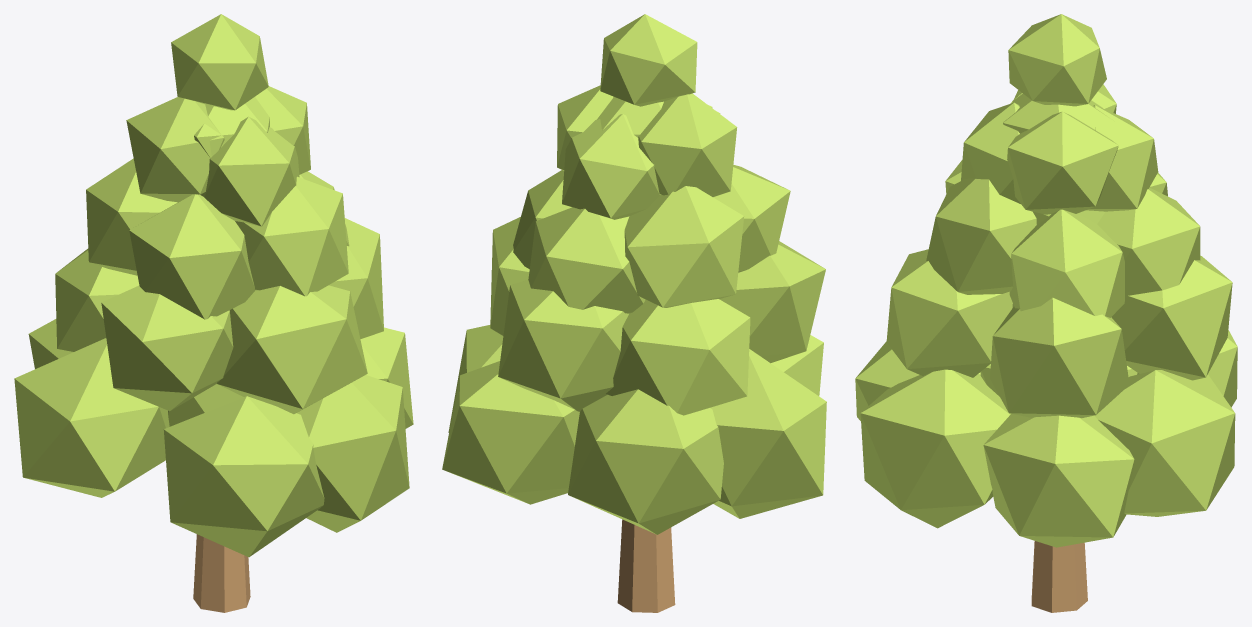
Rendered from Tree_Cone.fbx.
3 views of the same model, side by side, from view 1: azimuth 30°, elevation 25°; view 2: azimuth 150°, elevation 25°; view 3: azimuth 270°, elevation 25° (orthographic).
Parts seen in each view (by area): view 1: Tree_Cone; view 2: Tree_Cone; view 3: Tree_Cone.
Part boxes in pixels (bbox=[...]): Tree_Cone: bbox=[14, 14, 413, 612]; Tree_Cone: bbox=[442, 14, 826, 612]; Tree_Cone: bbox=[855, 14, 1237, 612].
Size of the model in its own units: 2.02 by 3.07 by 1.81.
